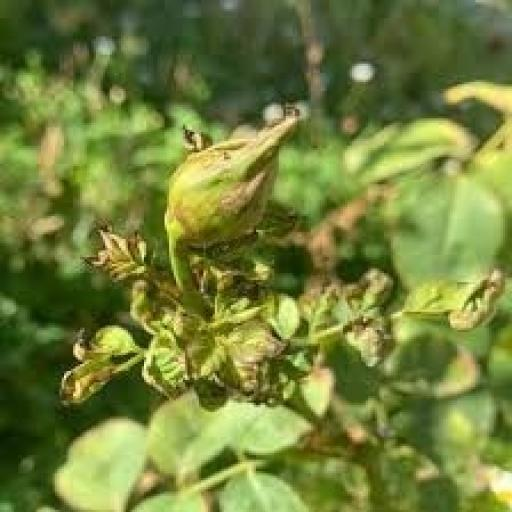thrip: (59, 325, 139, 403), (215, 319, 290, 400), (402, 269, 503, 328), (336, 269, 391, 364), (85, 228, 146, 278)
